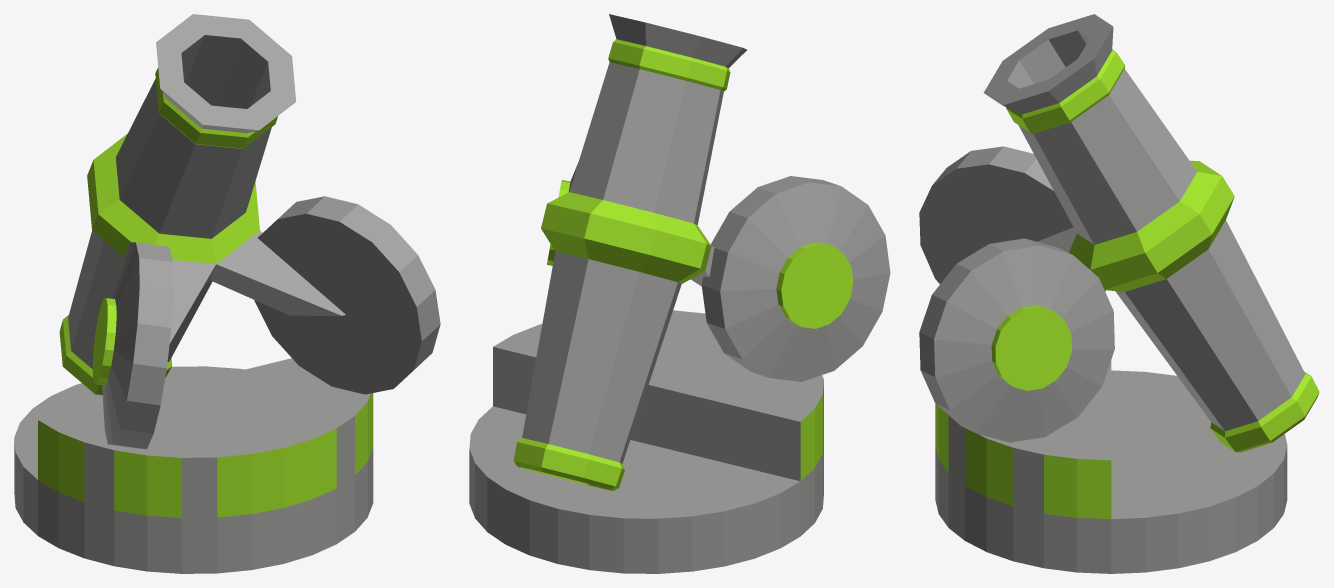
File: Mortar_Basic.fbx
3 renders of one model, left to right at view 1: azimuth 30°, elevation 25°; view 2: azimuth 150°, elevation 25°; view 3: azimuth 270°, elevation 25°, orthographic. The views are drawn at different scales.
Parts seen in each view (by area): view 1: Circle; view 2: Circle; view 3: Circle.
Part boxes in pixels (x1,y1,x2,y2): Circle: (14,14,440,573); Circle: (469,14,890,573); Circle: (919,14,1319,573).
Size of the model in its own units: 492 by 724 by 555.
1 material, 1 textured.
